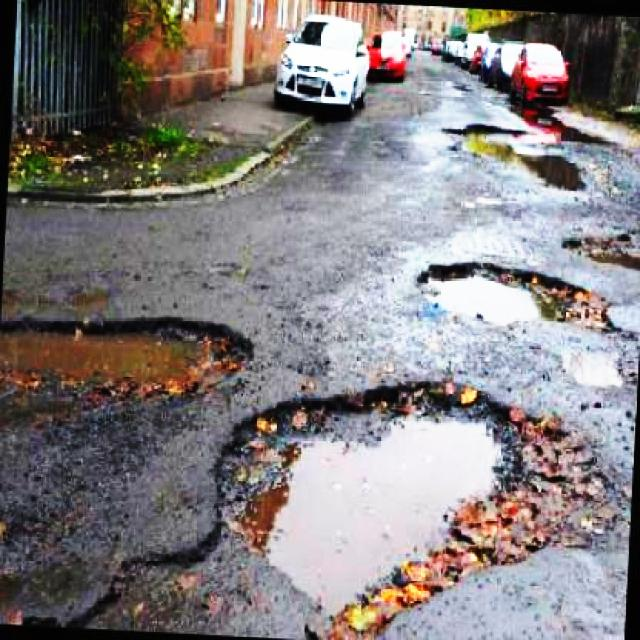pothole: (212, 375, 637, 637), (0, 309, 262, 422), (418, 249, 630, 343), (441, 112, 594, 197), (567, 226, 640, 273)
